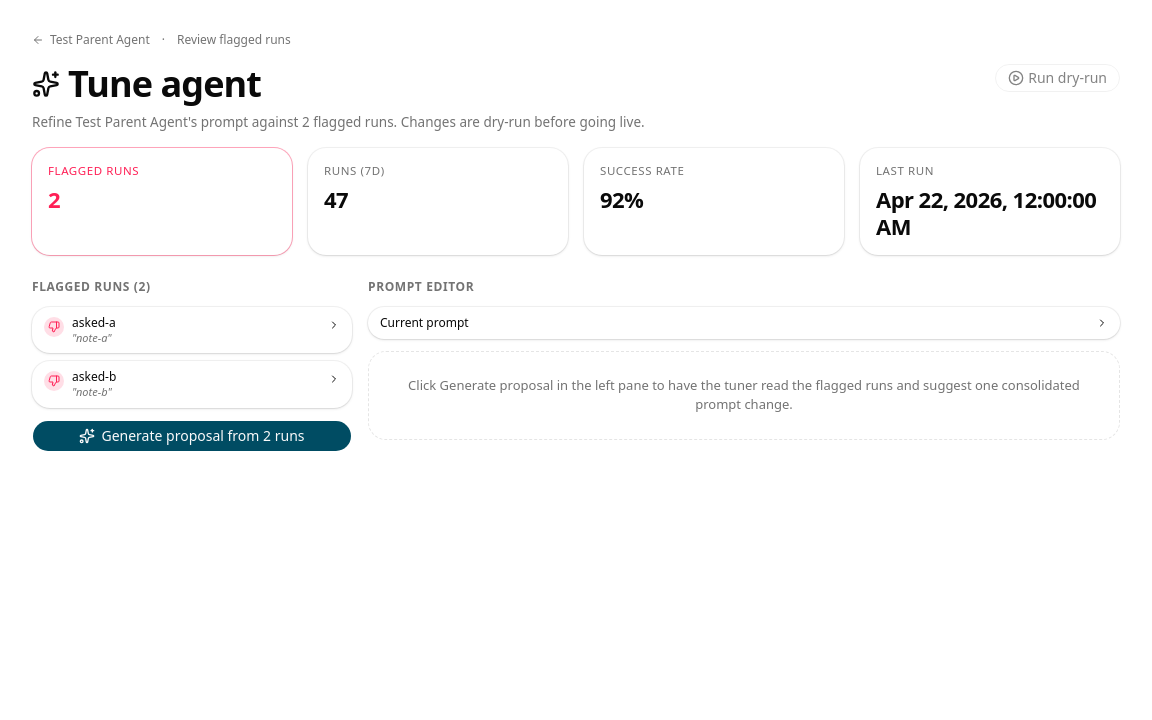
Test case: AgentTuneWorkbench — generate proposal › Discard returns to the empty state
Click the button with test id "generate-proposal-button": x=192, y=436 [32,420,352,452]
(page scrolled)
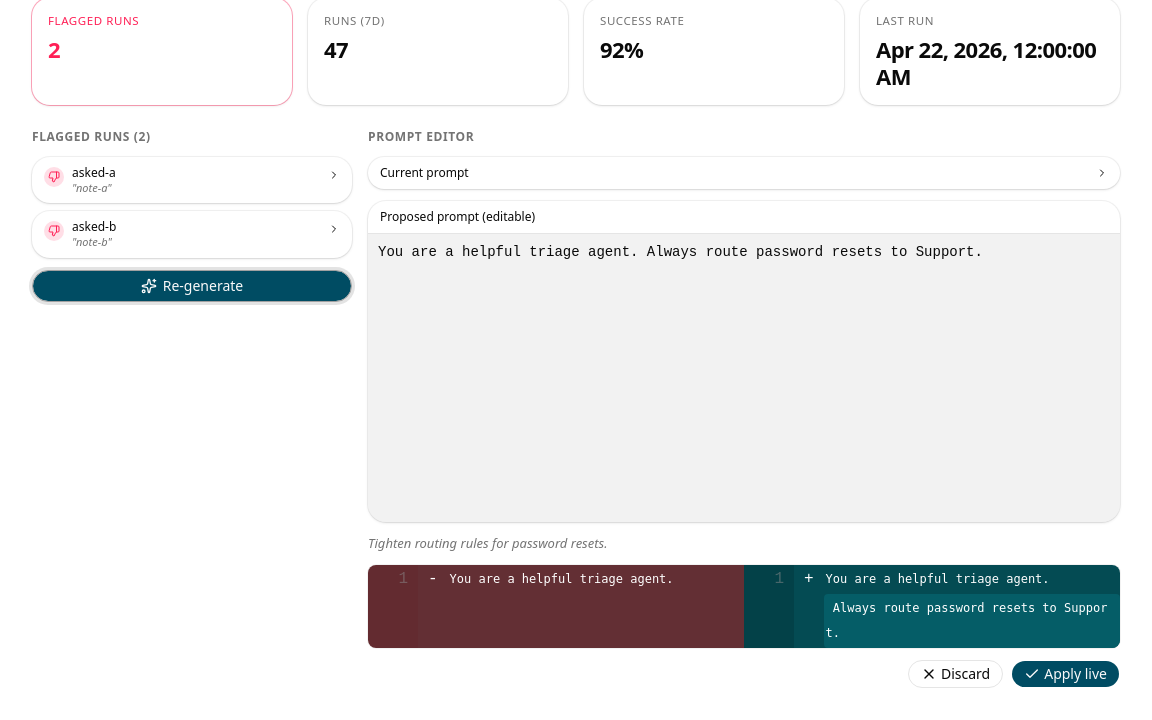
Result: the text box with test id "proposal-textarea" is shown at [368,234,1120,522]
Click the button with test id "discard-button": x=956, y=674 [908,660,1003,688]
(page scrolled)
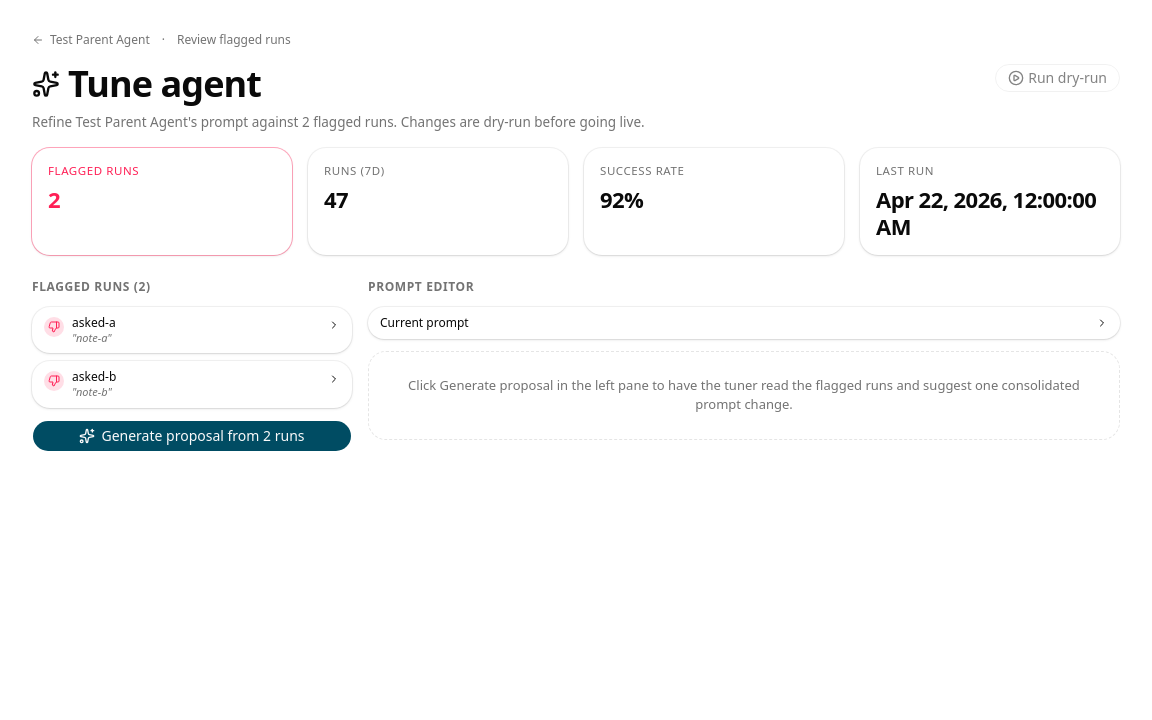
Result: the text box with test id "proposal-textarea" is gone
Result: the element with test id "editor-empty-state" is shown at [368,350,1120,440]
